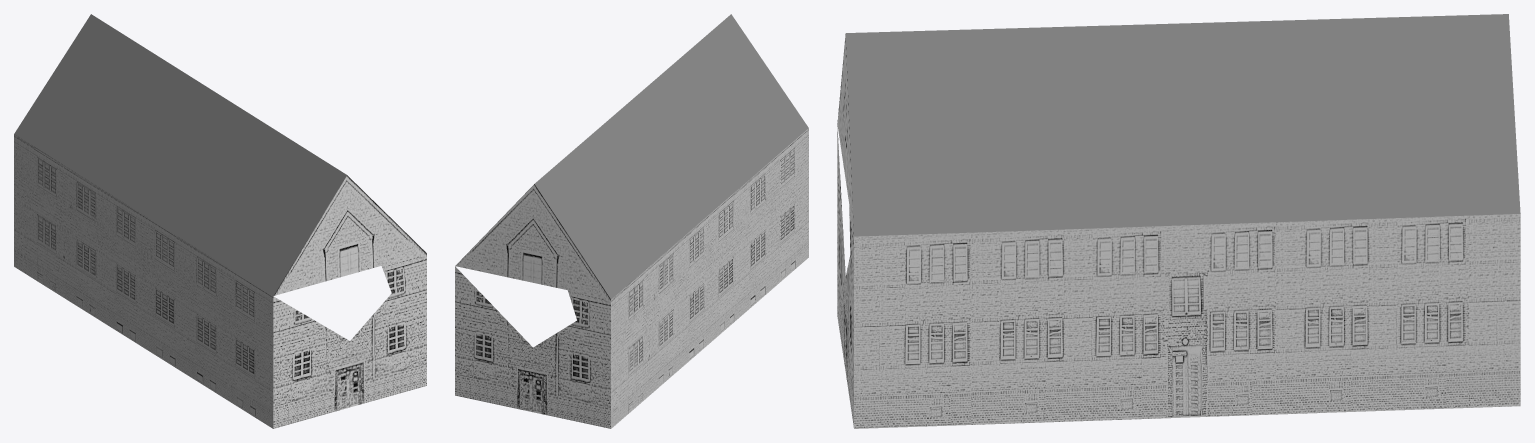
Rendered from Verwaltungsgebaeude_1.gltf.
The picture shows the model from 3 angles, left to right: view 1: azimuth 30°, elevation 25°; view 2: azimuth 150°, elevation 25°; view 3: azimuth 270°, elevation 25°; orthographic projection. The views are drawn at different scales.
Parts seen in each view (by area): view 1: Dach.1; view 2: Dach.1; view 3: Dach.1.
Part boxes in pixels (x1,y1,x2,y2): Dach.1: (14, 14, 426, 428); Dach.1: (455, 14, 808, 428); Dach.1: (837, 14, 1520, 428).
Bounding box in the file's own units: 12.67 × 15.06 × 27.62.
4 materials, 3 textured.
